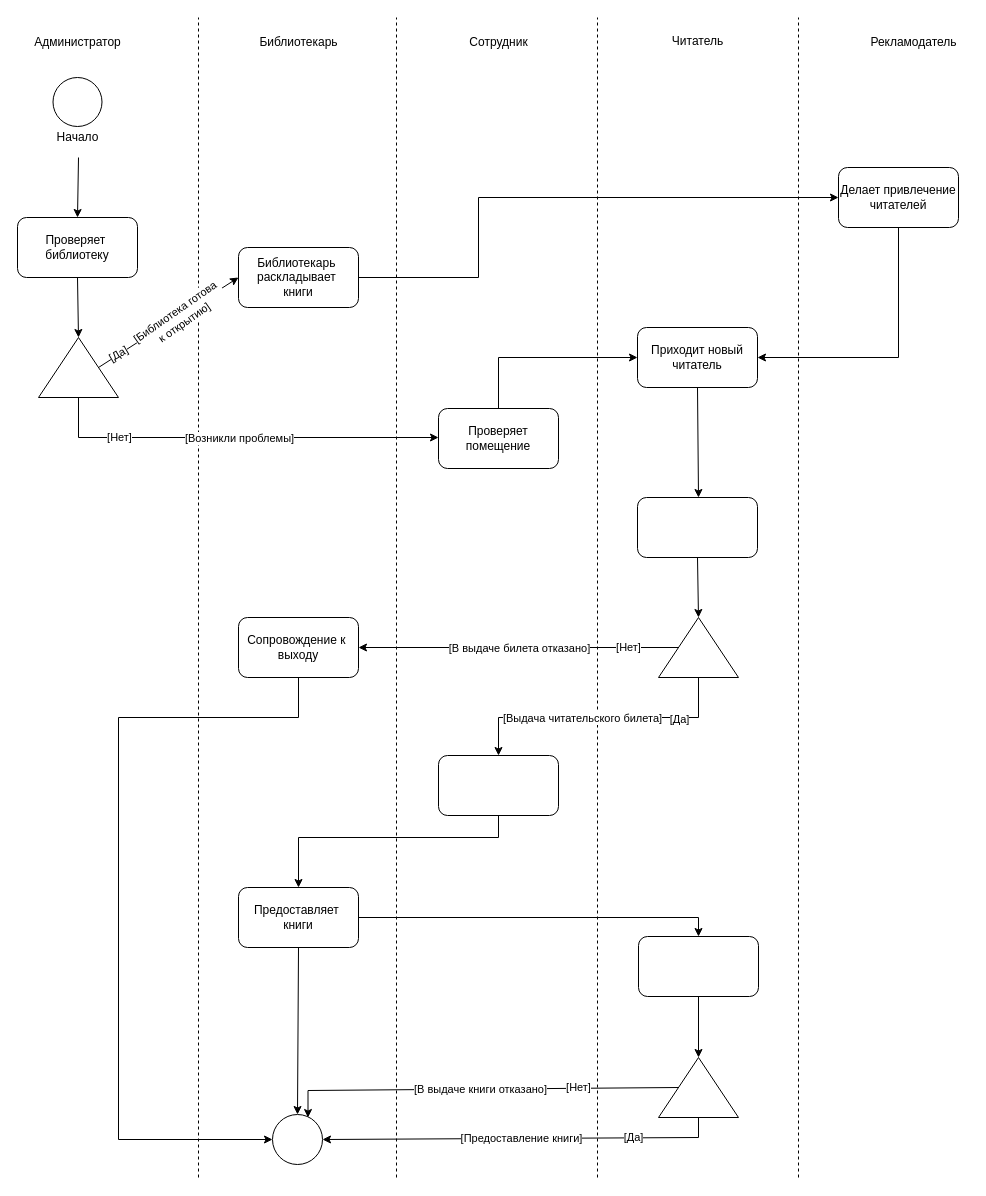
This 986x1196 diagram has some shape labels left out. Here are the shapes that lost their labels. From the top down, the centre of each, then its label:
At pixel 697 527: "Делает читательский билет".
At pixel 498 785: "Добавляет читателя в базу".
At pixel 698 966: "Берёт книги в аренду".
